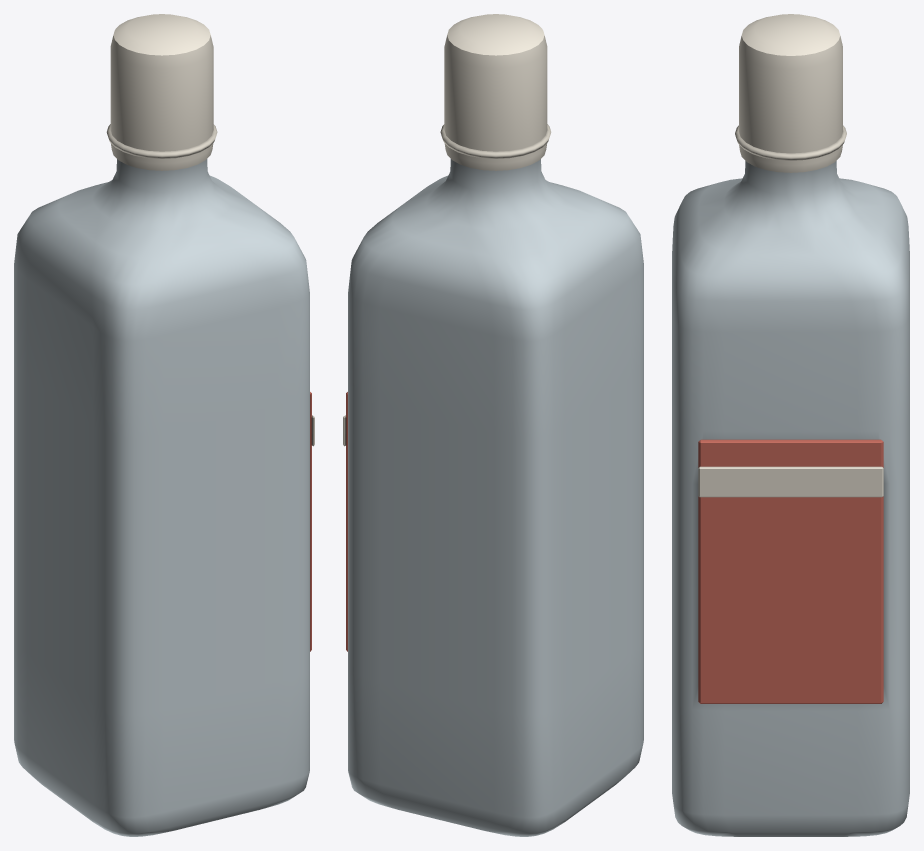
The model's file is drink_spirit.glb.
3 renders of one model, left to right at view 1: azimuth 30°, elevation 25°; view 2: azimuth 150°, elevation 25°; view 3: azimuth 270°, elevation 25°, orthographic.
Visible parts, largest first — view 1: PART; view 2: PART; view 3: PART.
Part boxes in pixels (box(x1,y1,x2,y2)): PART: box(14, 14, 314, 836); PART: box(343, 14, 643, 836); PART: box(672, 14, 909, 836).
Size of the model in its own units: 0.0874 by 0.3 by 0.0849.
